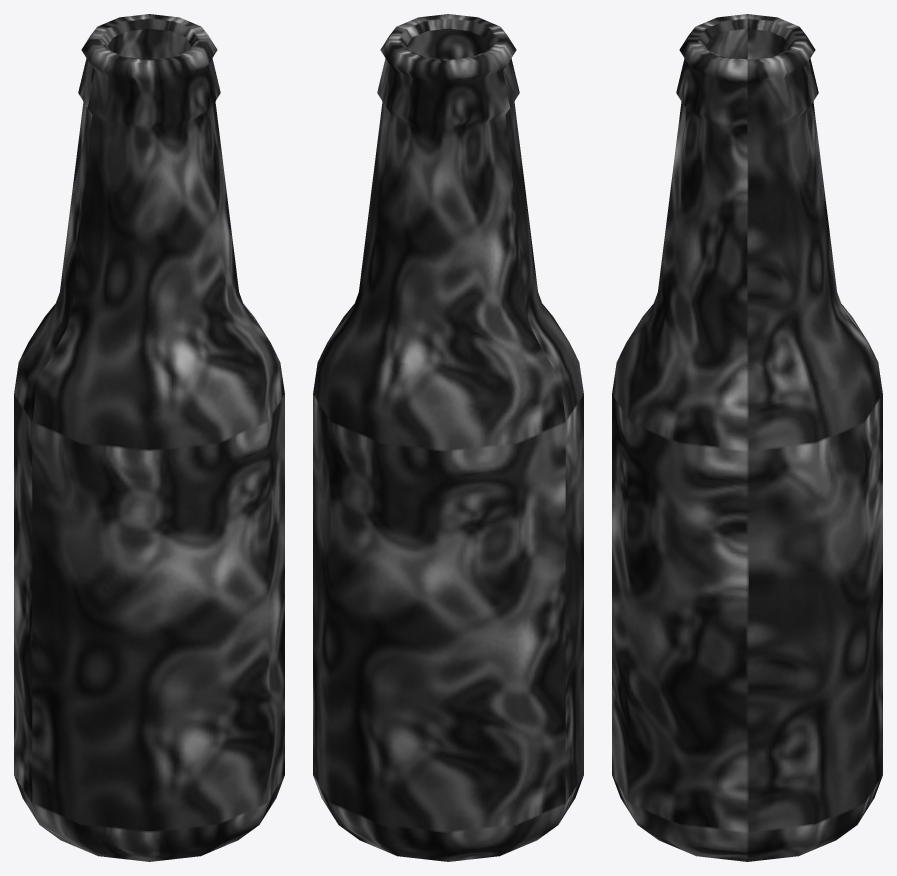
Rendered from BeerBottle.fbx.
The picture shows the model from 3 angles, left to right: view 1: azimuth 30°, elevation 25°; view 2: azimuth 150°, elevation 25°; view 3: azimuth 270°, elevation 25°; orthographic projection.
Parts seen in each view (by area): view 1: Circle; view 2: Circle; view 3: Circle.
Boxes of the visible parts, <box> form: Circle: <box>14,14,284,861</box>; Circle: <box>313,14,583,861</box>; Circle: <box>612,14,882,861</box>.
Size of the model in its own units: 4149 by 13318 by 4149.
1 material, 1 textured.
